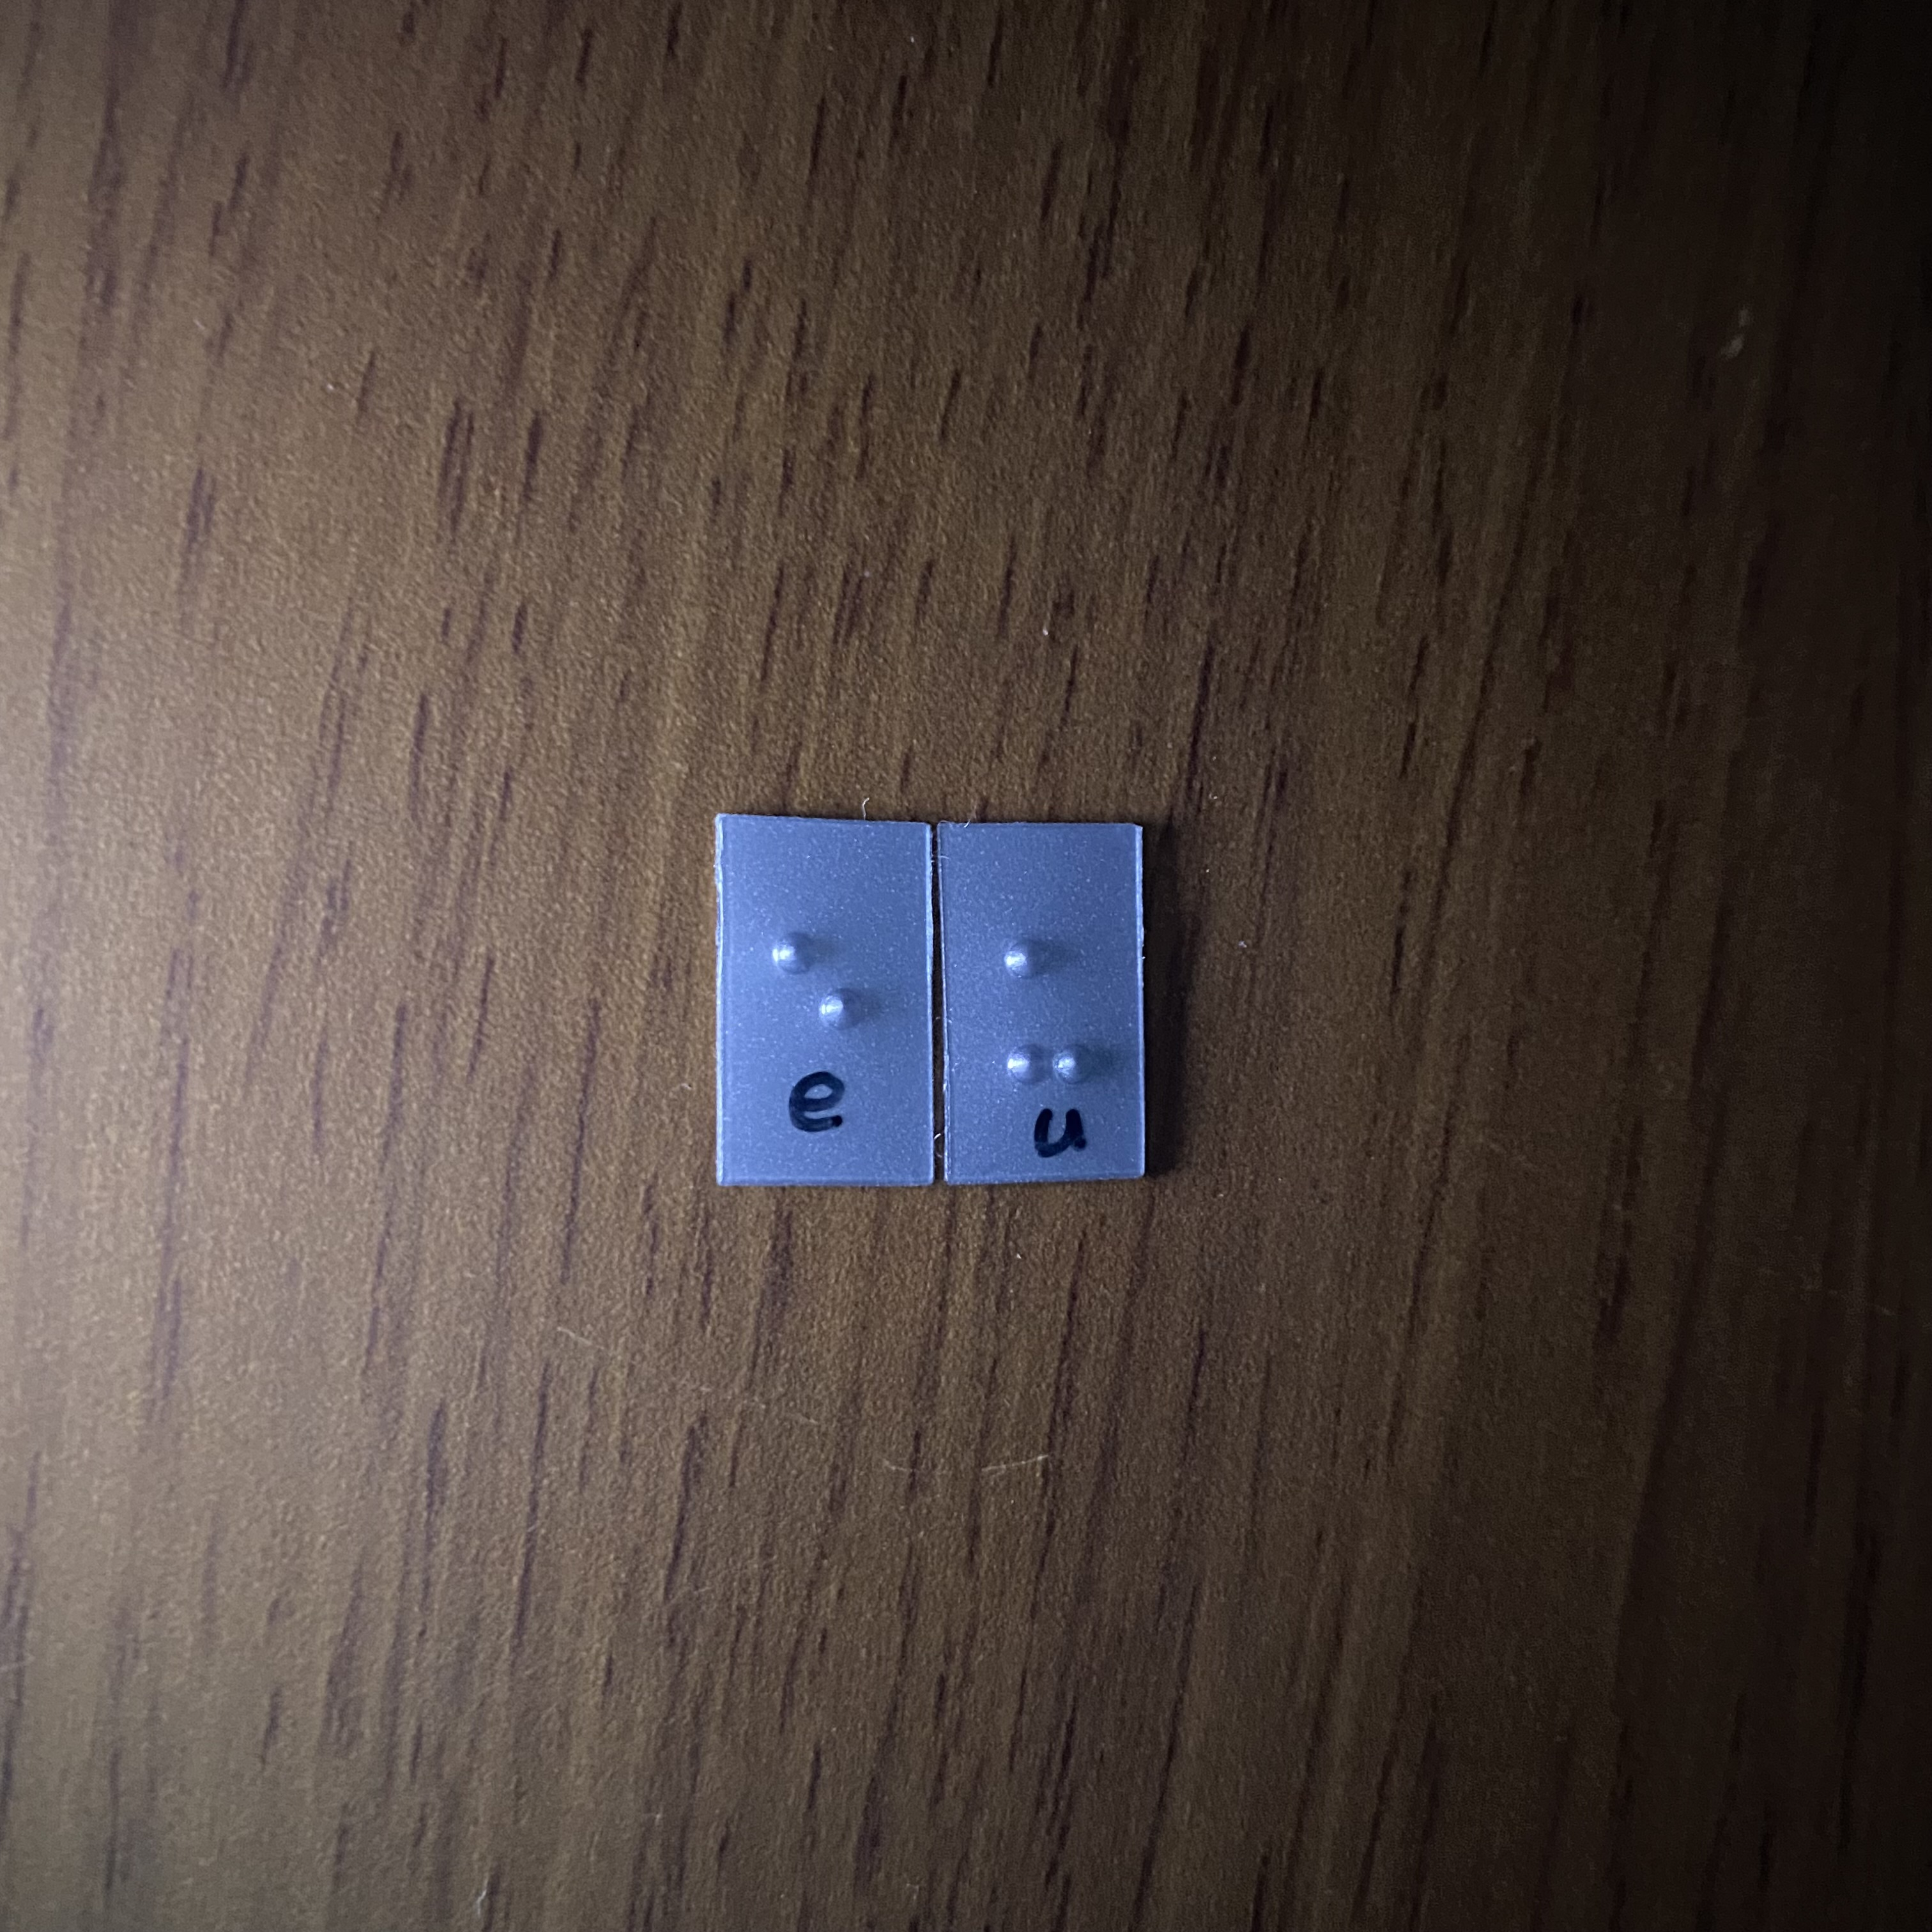e: (765, 912, 882, 1086)
u: (988, 907, 1115, 1094)
